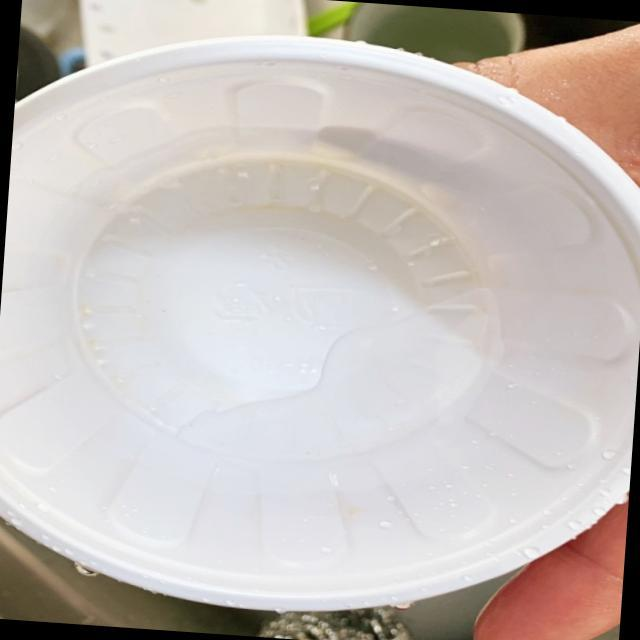container: (0, 11, 640, 624)
